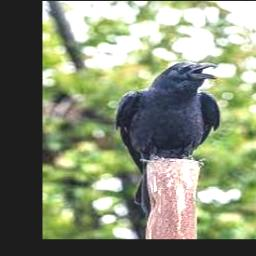Crow: (115, 61, 222, 220)
